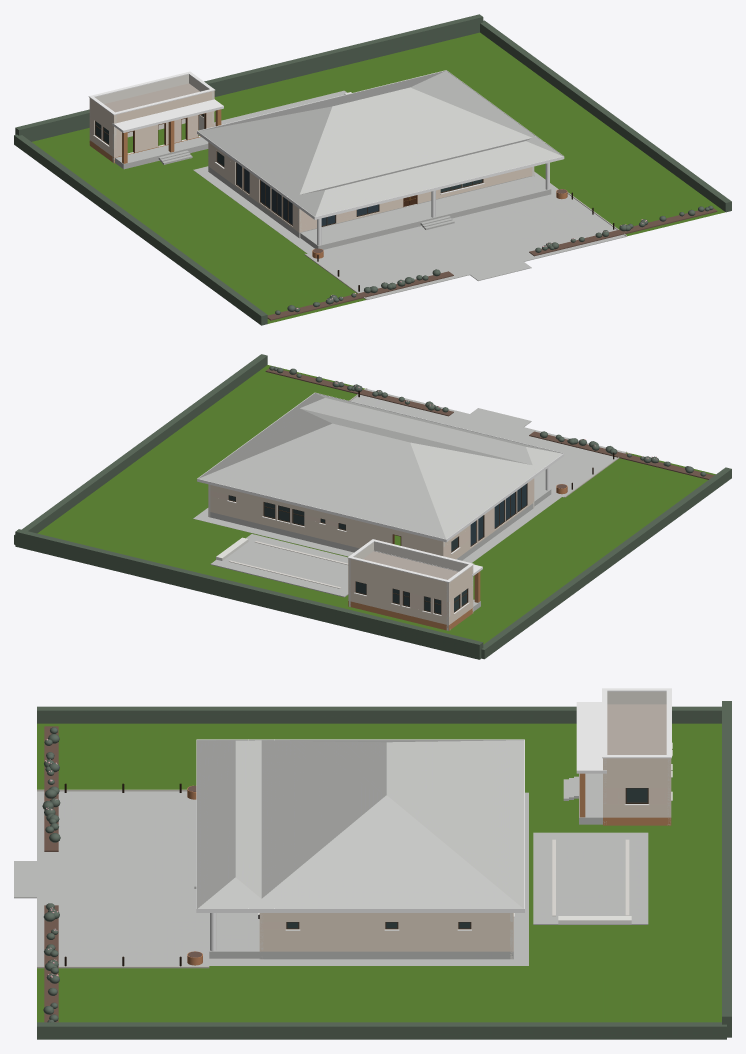
The model's file is est_S8.glb.
The picture shows the model from 3 angles, top to bottom: view 1: azimuth 30°, elevation 25°; view 2: azimuth 150°, elevation 25°; view 3: azimuth 270°, elevation 25°; orthographic projection. The views are drawn at different scales.
Visible parts, largest first — view 1: GR_est_S8, GD_est_S8; view 2: GR_est_S8, GD_est_S8; view 3: GR_est_S8, GD_est_S8.
Part boxes in pixels (x1,y1,x2,y2): GR_est_S8: (14, 14, 731, 325); GD_est_S8: (89, 92, 713, 314); GR_est_S8: (14, 354, 731, 659); GD_est_S8: (210, 366, 706, 616); GR_est_S8: (14, 688, 731, 1039); GD_est_S8: (42, 727, 672, 1022).
Size of the model in its own units: 52.7 by 9.97 by 49.95.
7 materials, 2 textured.
